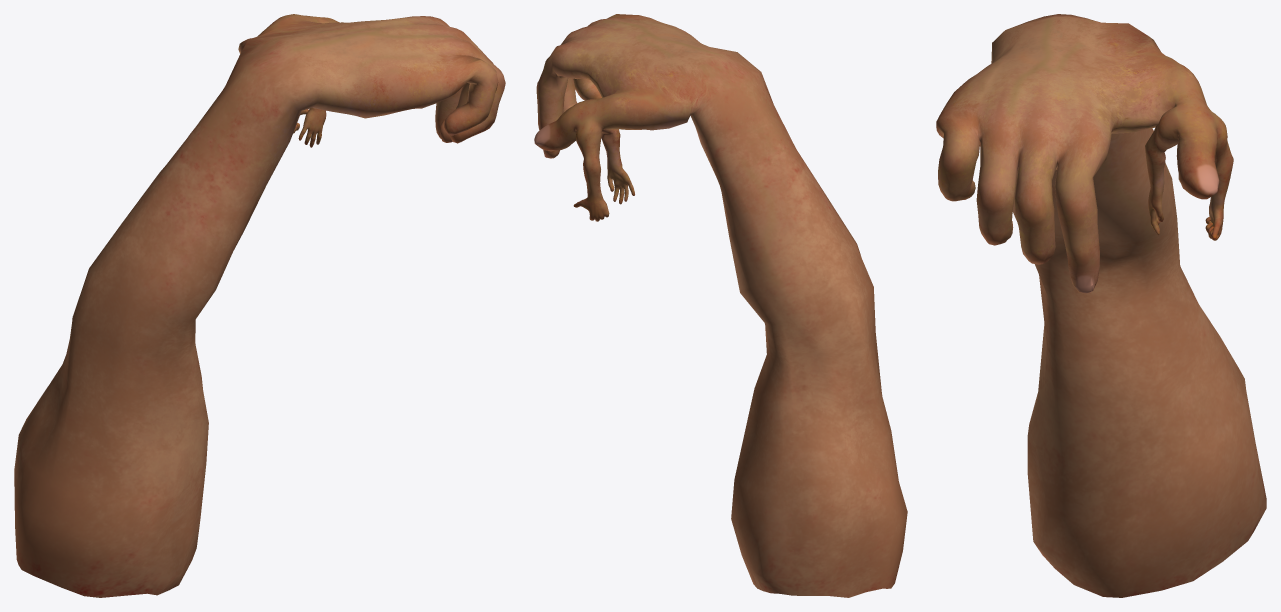
Rendered from DeadHand.fbx.
The picture shows the model from 3 angles, left to right: view 1: azimuth 30°, elevation 25°; view 2: azimuth 150°, elevation 25°; view 3: azimuth 270°, elevation 25°; orthographic projection. The views are drawn at different scales.
Visible parts, largest first — view 1: ThumbFighterModel; view 2: ThumbFighterModel; view 3: ThumbFighterModel.
Part boxes in pixels (left/top/right/bottom): ThumbFighterModel: left=14, top=14, right=505, bottom=597; ThumbFighterModel: left=534, top=14, right=907, bottom=597; ThumbFighterModel: left=936, top=14, right=1266, bottom=597.
Bounding box in the file's own units: 470 × 546 × 259.
